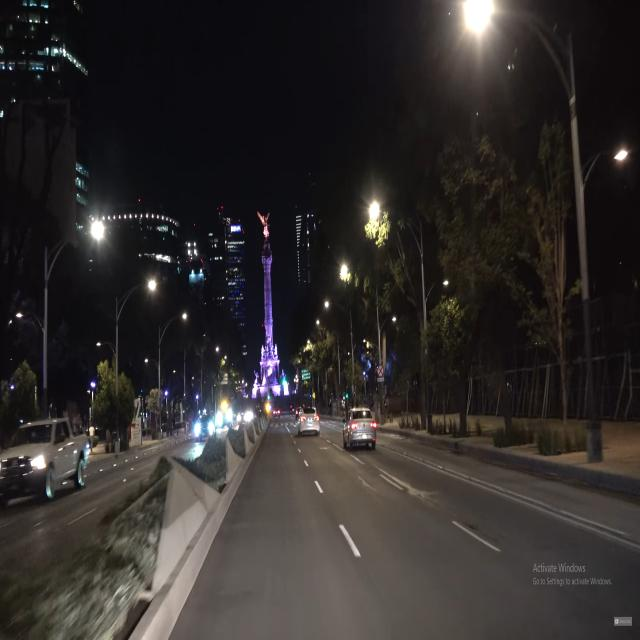headlights: (192, 420, 217, 440)
